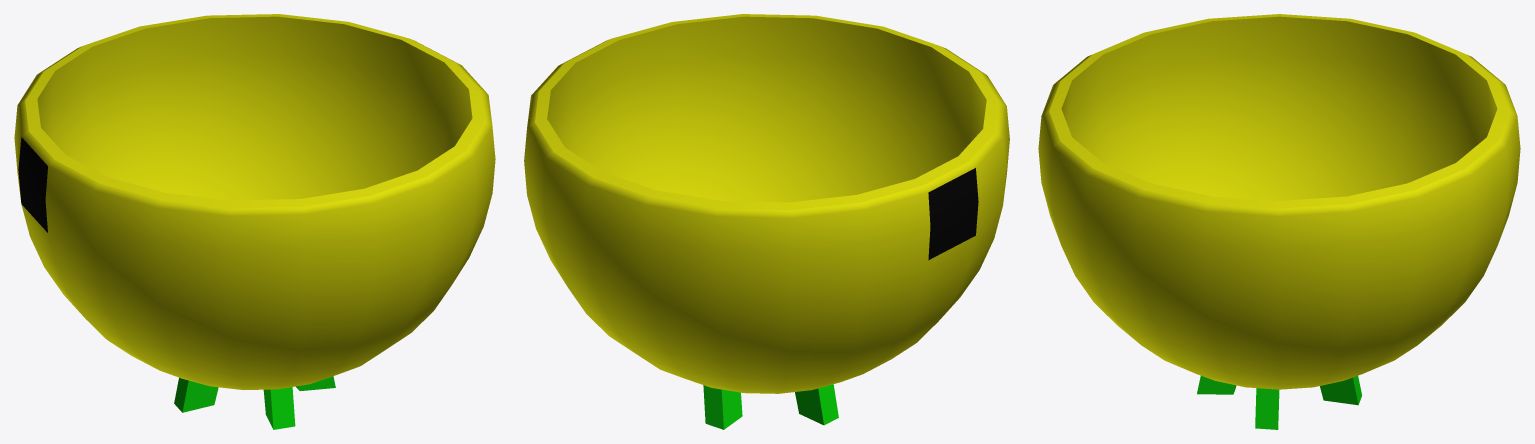
Rendered from Mortar.fbx.
3 renders of one model, left to right at view 1: azimuth 30°, elevation 25°; view 2: azimuth 150°, elevation 25°; view 3: azimuth 270°, elevation 25°, orthographic.
Visible parts, largest first — view 1: mortar; view 2: mortar; view 3: mortar.
Boxes of the visible parts, left/top/right/bottom form: mortar: left=14, top=14, right=495, bottom=429; mortar: left=524, top=14, right=1009, bottom=429; mortar: left=1038, top=14, right=1520, bottom=429.
Size of the model in its own units: 0.2746 by 0.1799 by 0.2746.
